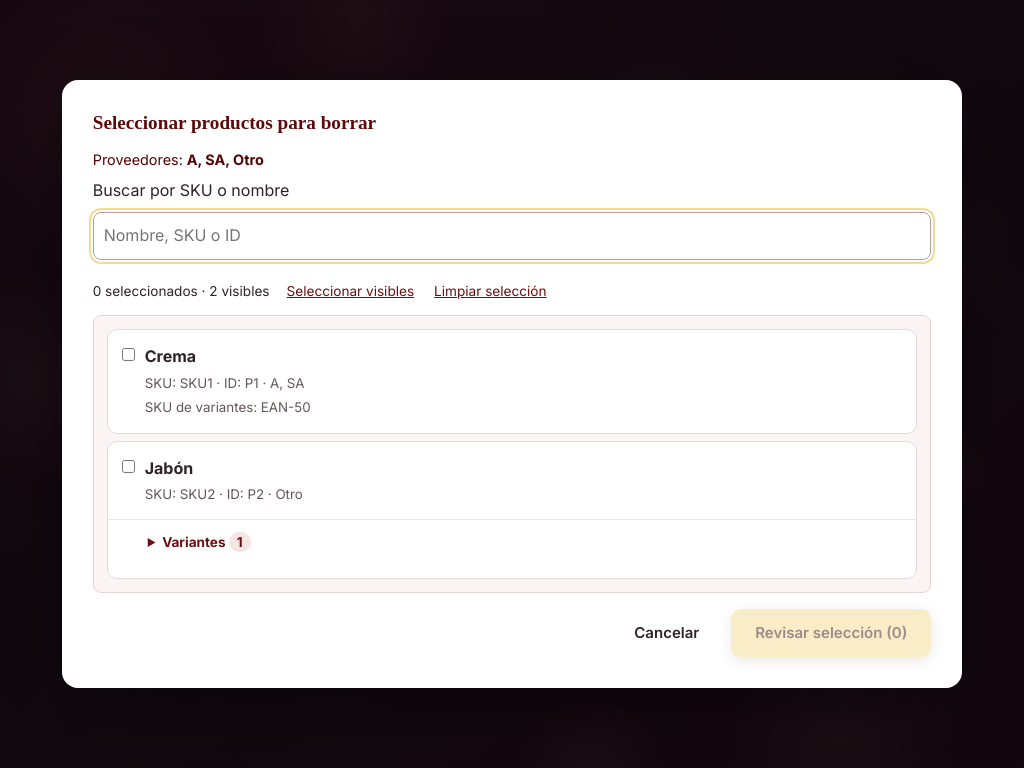
Test case: revisa producto y variante de otro producto y ejecuta ambas etapas
This screenshot has width=1024, height=768.
Earlier steps of the test are not shown.
Click the checkbox labelled "Crema SKU: SKU1 · ID: P1 · A, SA SKU de variantes: EAN-50".
click(128, 355)  # box [122,348,135,361]
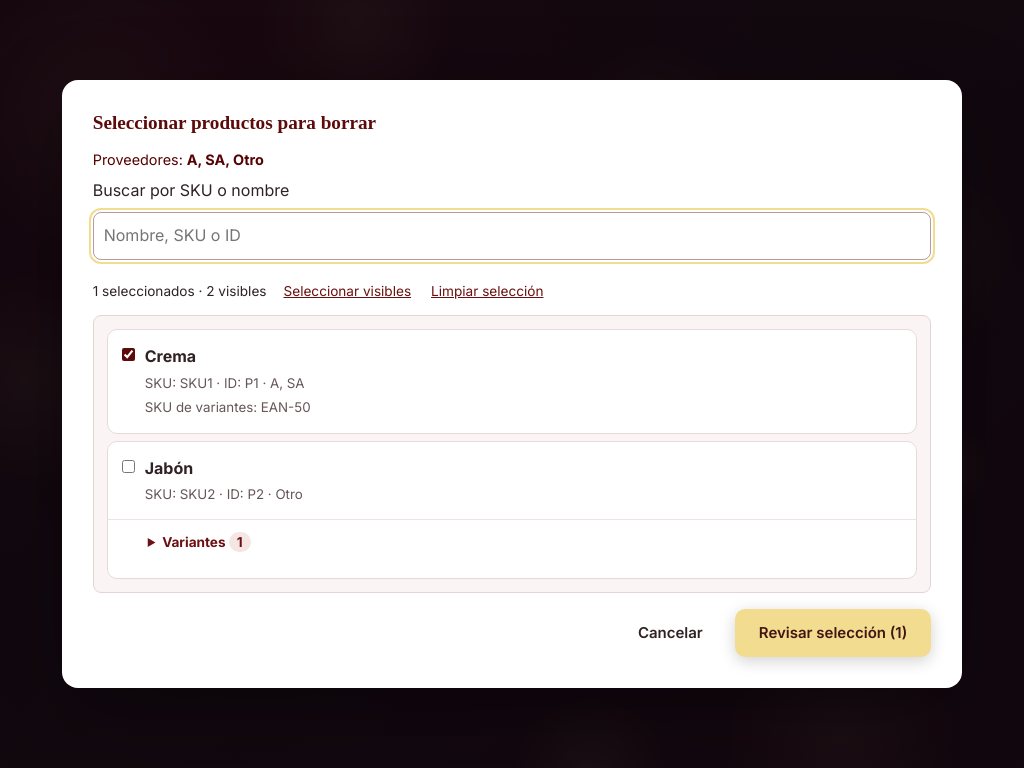
Click the heading "Variantes 1".
click(206, 542)  # box [162,532,251,552]
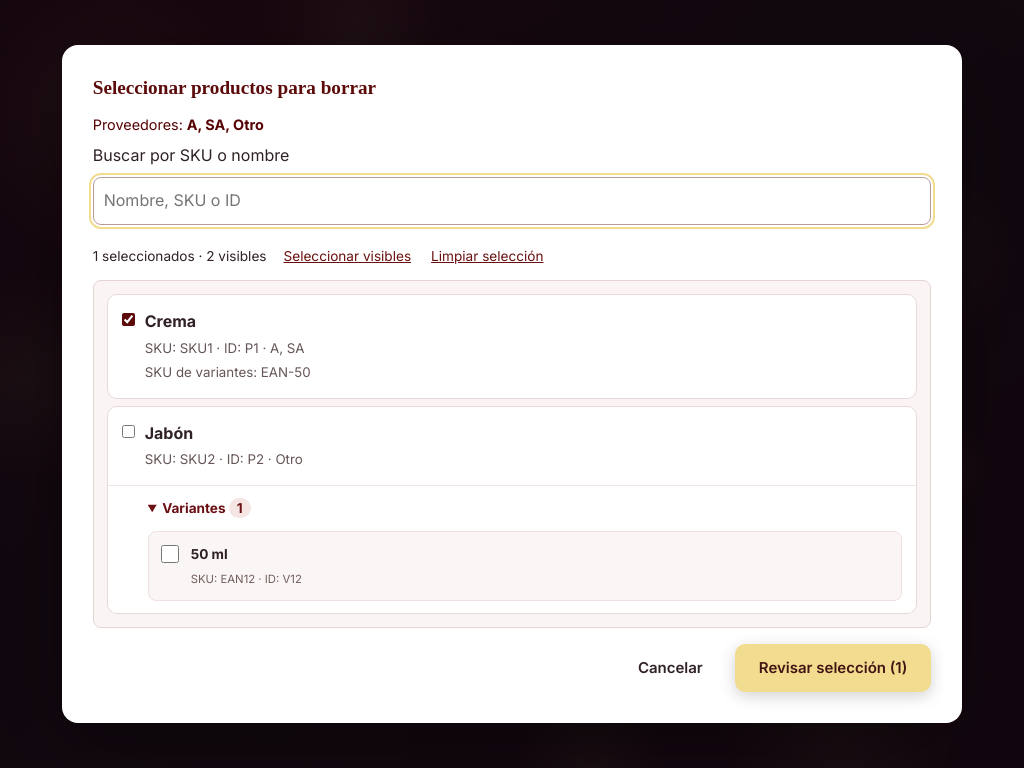
Click the checkbox labelled "50 ml SKU: EAN12 · ID: V12".
click(170, 554)  # box [161,545,179,563]
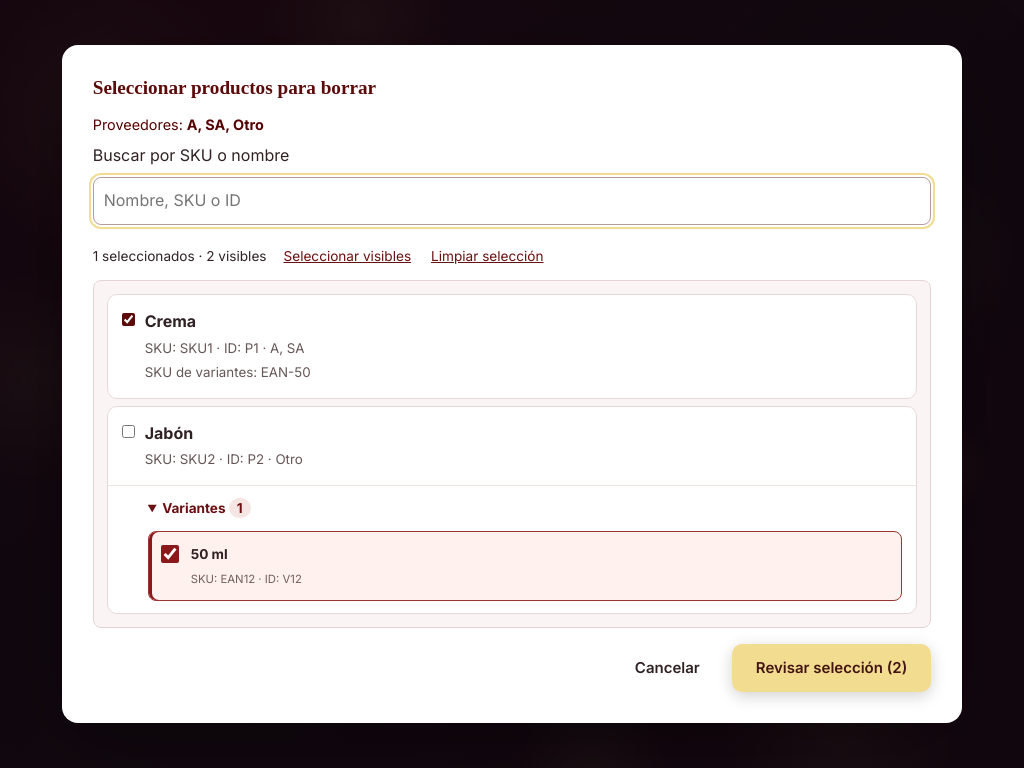
Click the button "Revisar selección (2)".
click(832, 668)  # box [732,644,931,692]
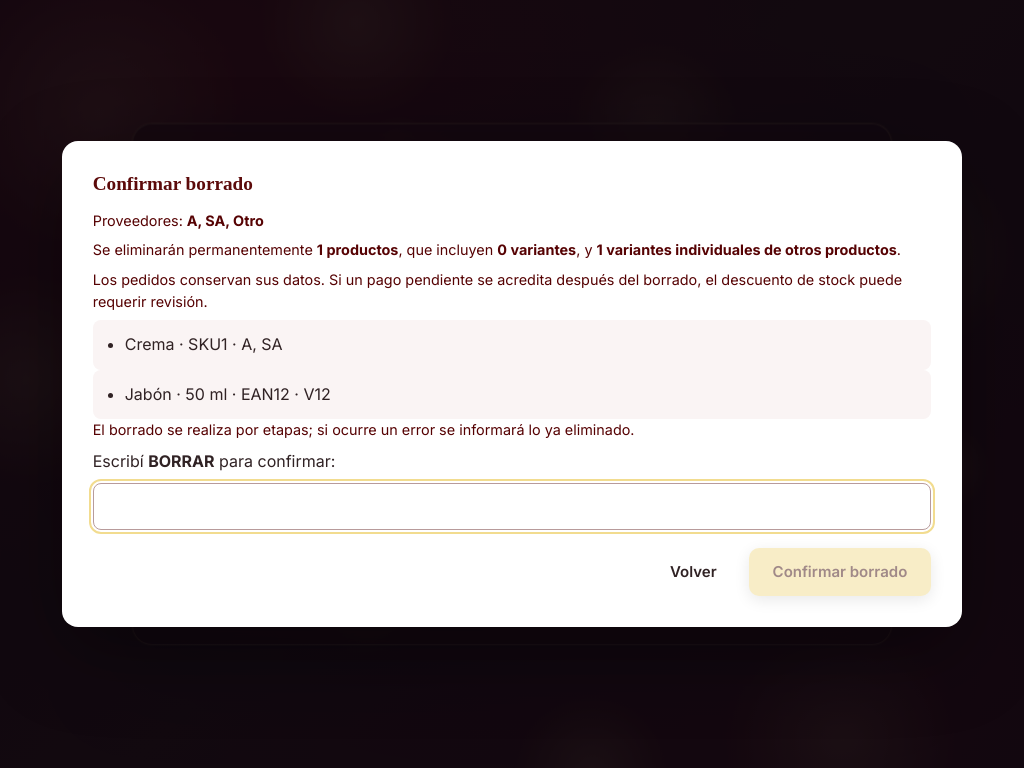
Result: the text "1 variantes individuales de otros productos" is shown at [596,241,897,258]
Type "BORRAR" into the field.
click(512, 506); type("BORRAR")  # box [93,483,931,530]
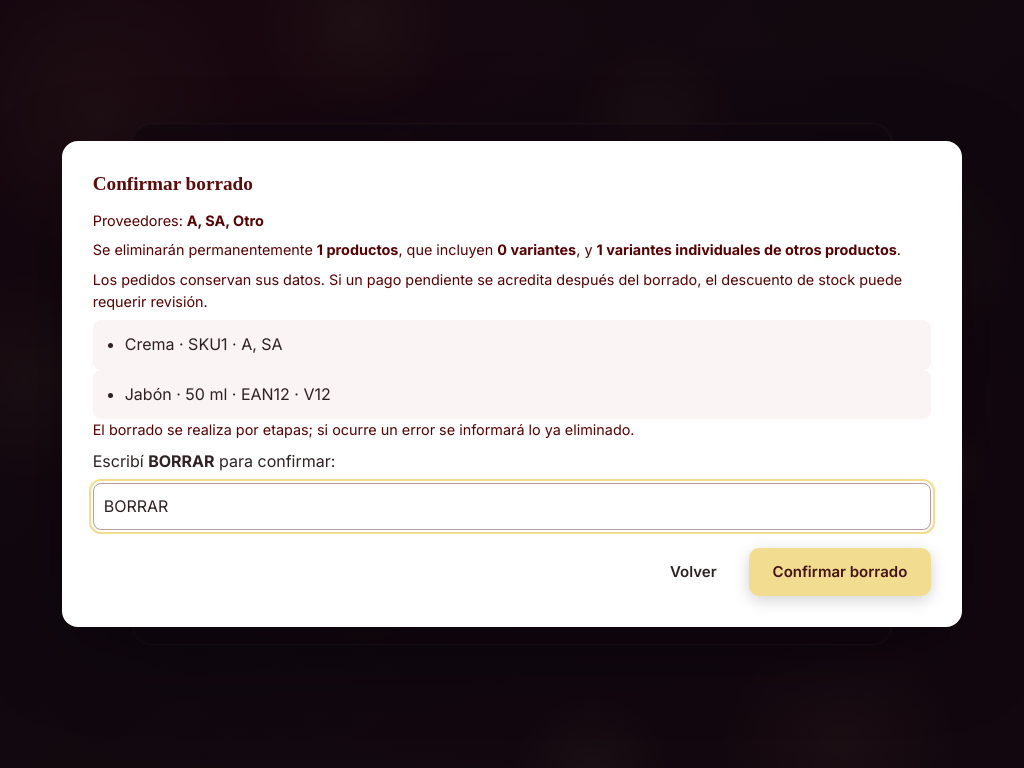
Click the button "Confirmar borrado".
click(840, 572)  # box [749,548,931,596]
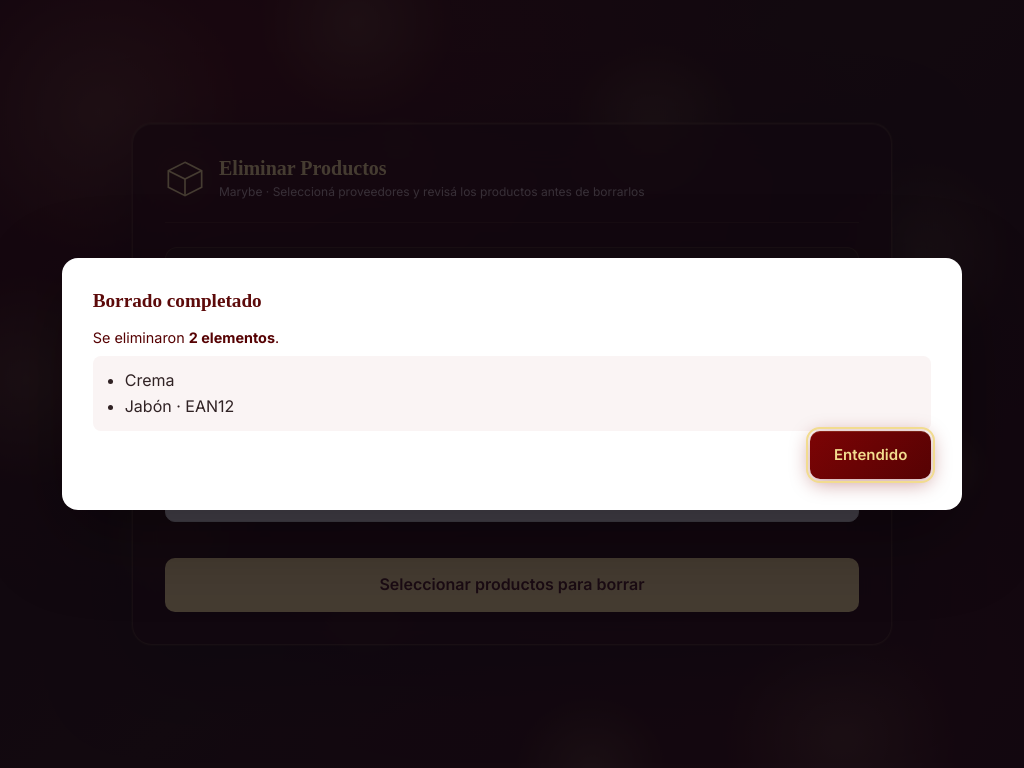
Result: the heading "Borrado completado" is shown at [93,290,262,311]
